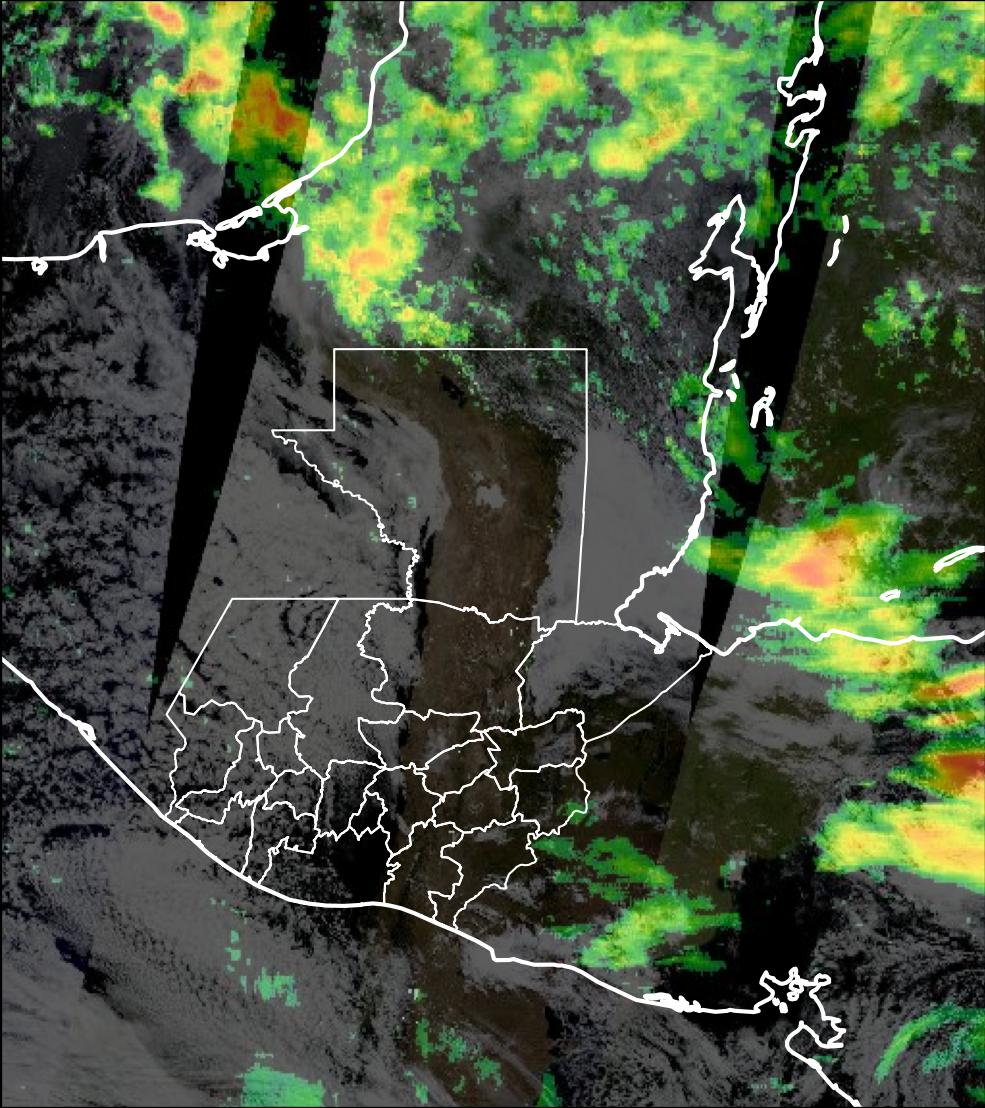precipitacion: (172, 63, 319, 157), (917, 742, 985, 812)
